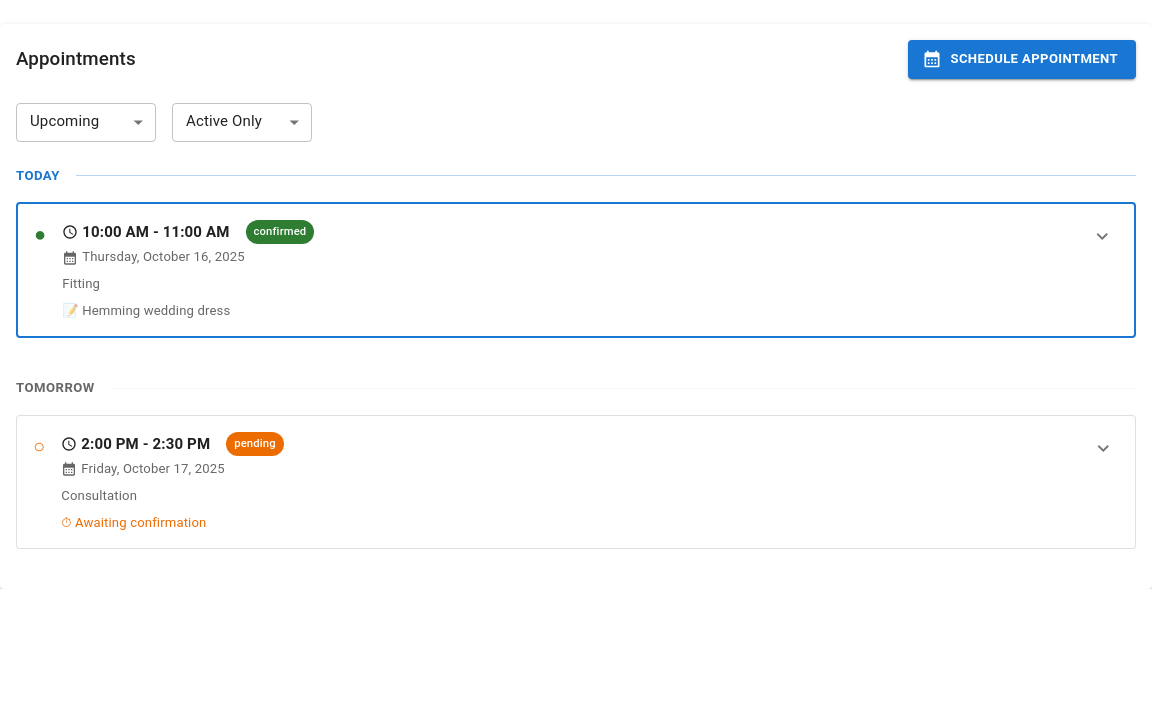
Test: ClientAppointmentsSectionV2 › filters appointments by status
This screenshot has width=1152, height=720.
Click the dropdown "Active Only". click: [224, 122]
box: [186,112,262,130]
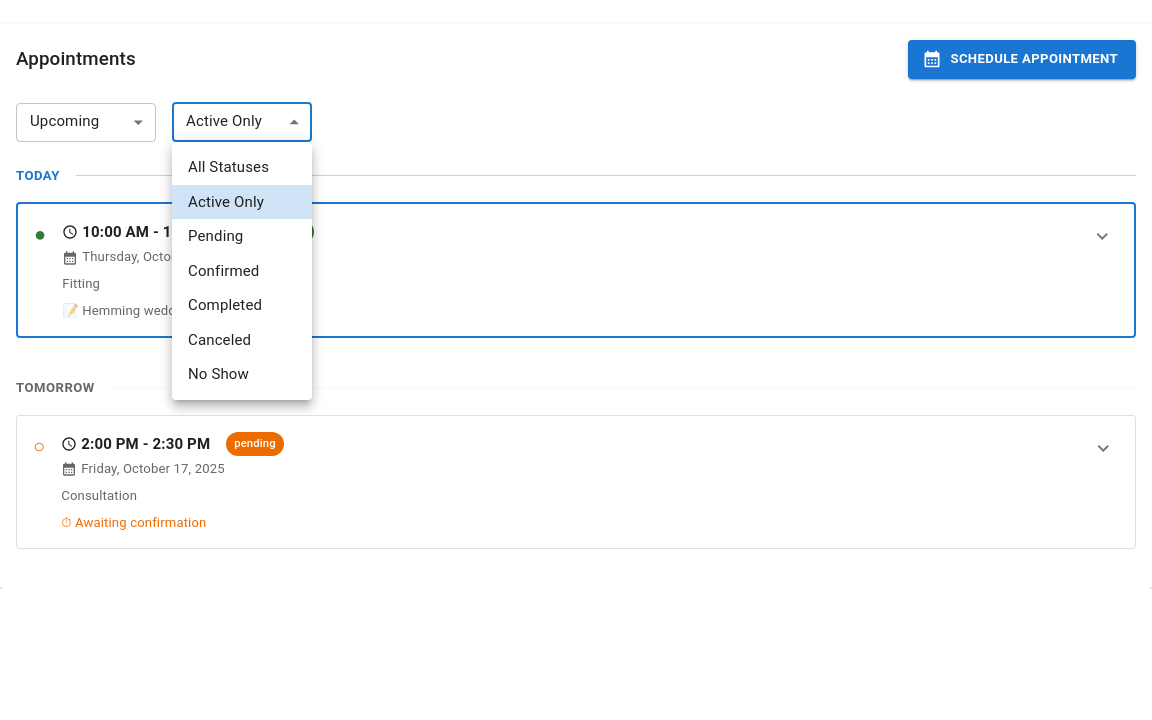
Click the option "Pending". click: [216, 236]
box: [188,227,243,245]
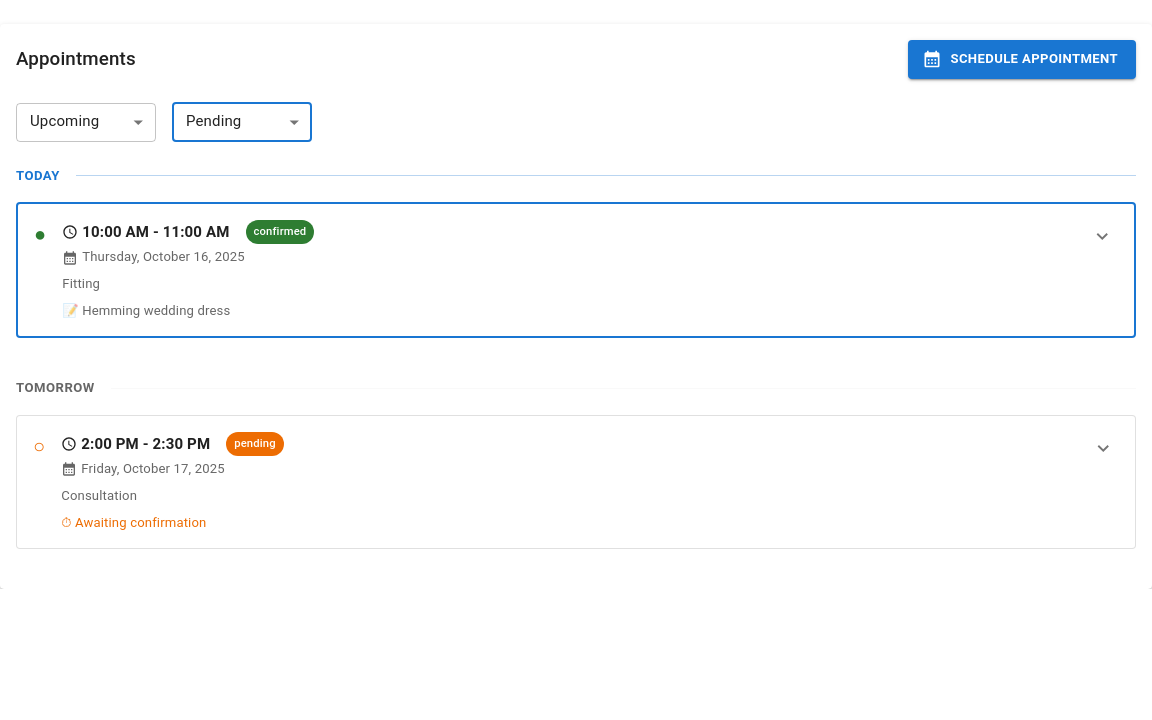
Result: the dropdown "Pending" is shown at [186,112,241,130]
